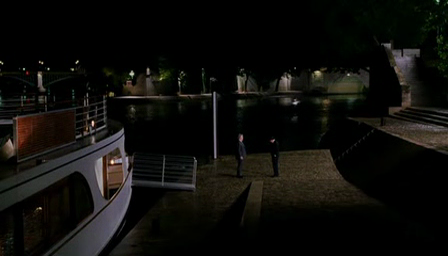els: (1, 1, 448, 256)
face_es: (239, 135, 243, 141), (271, 139, 273, 142)
person: (234, 132, 246, 178), (270, 135, 280, 176)
